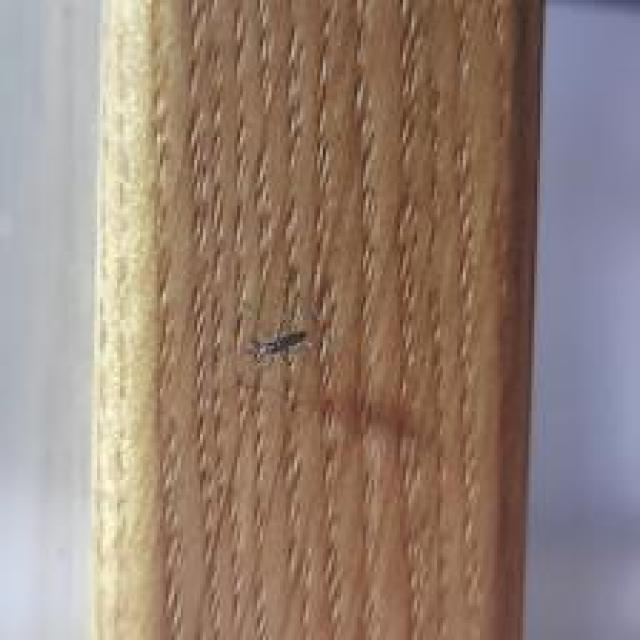Aedes albopictus: (247, 327, 307, 367)
